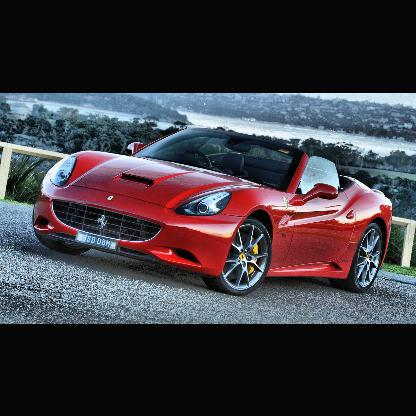Ferrari California Convertible 2012: (34, 127, 393, 297)
